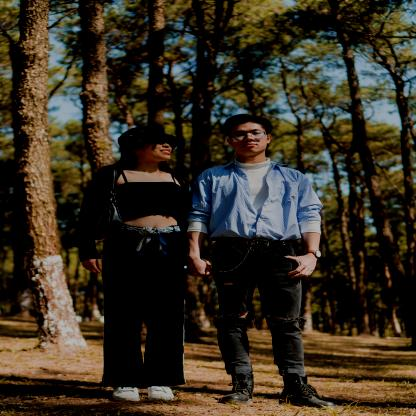dress: (102, 222, 185, 389), (189, 160, 334, 248)
jacket: (114, 170, 186, 224)
